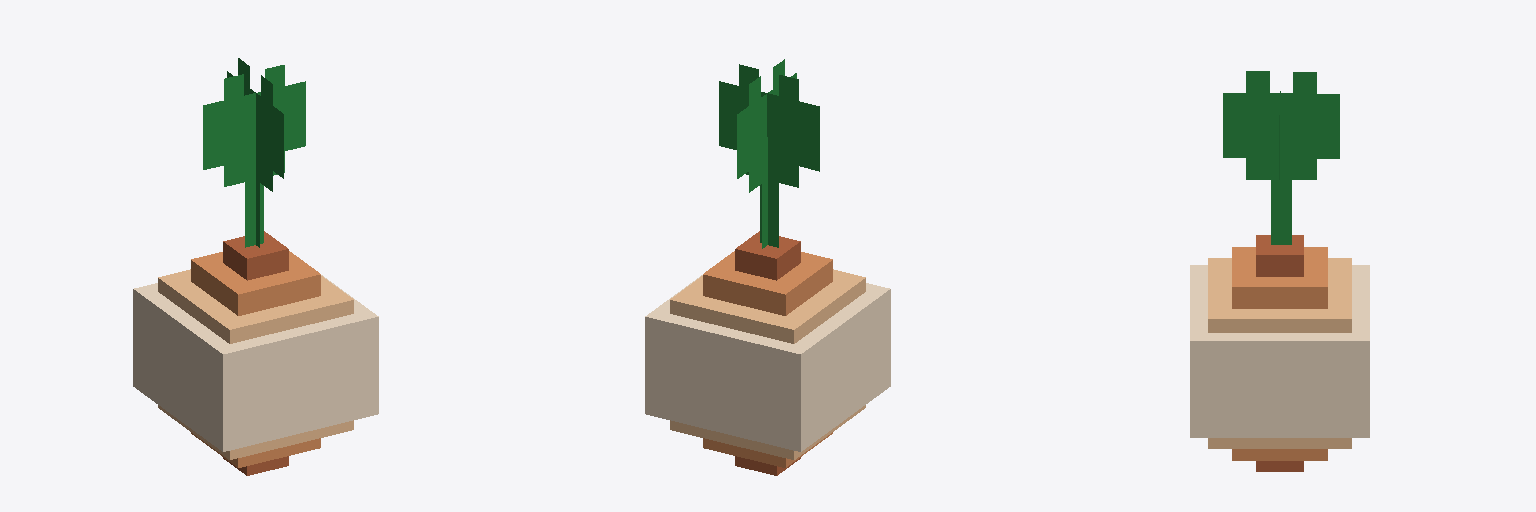
The picture shows the model from 3 angles: view 1: azimuth 30°, elevation 25°; view 2: azimuth 150°, elevation 25°; view 3: azimuth 270°, elevation 25°; orthographic projection.
Parts seen in each view (by area): view 1: cube; view 2: cube; view 3: cube.
Part boxes in pixels (left/top/right/bottom): cube: left=133, top=58, right=378, bottom=475; cube: left=645, top=59, right=890, bottom=475; cube: left=1190, top=71, right=1369, bottom=471.
Bounding box in the file's own units: 0.4688 × 1.19 × 0.4688.
Materials: 2 (2 with a texture image).